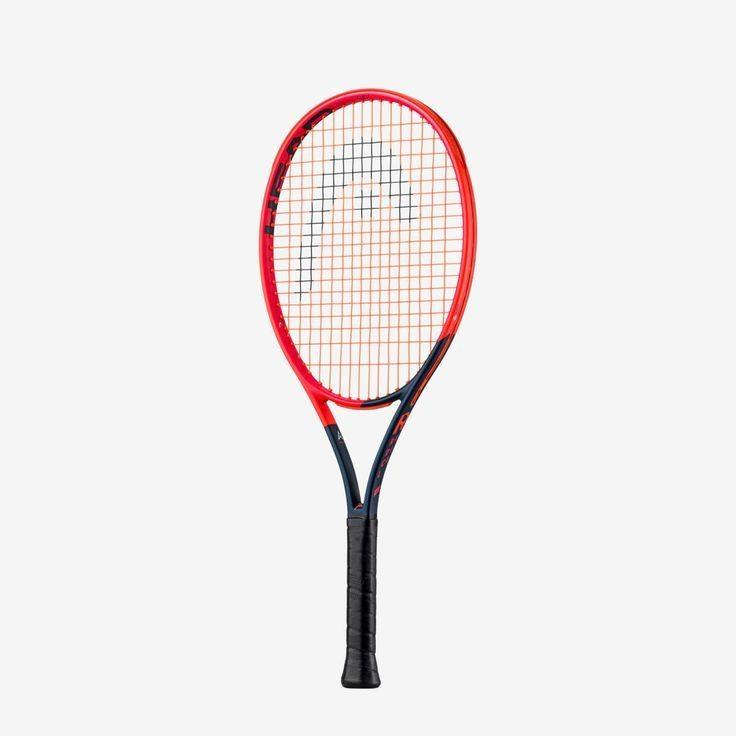Tennis-Racket: (242, 69, 486, 706)
